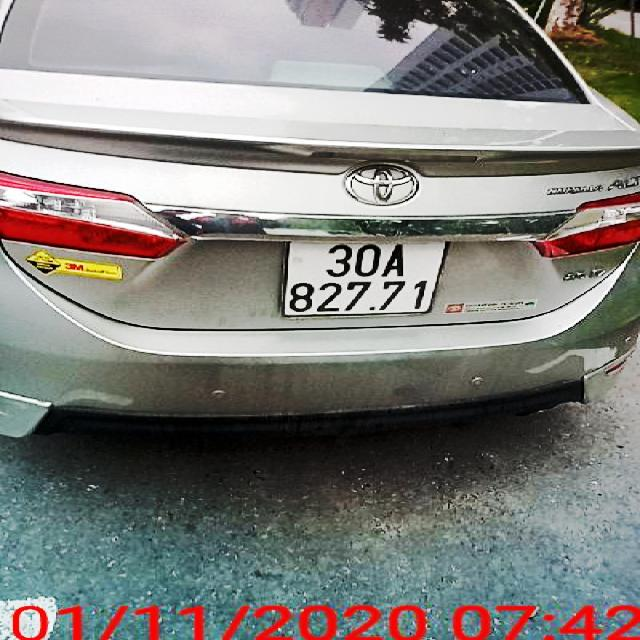license_plate: (283, 244, 450, 320)
